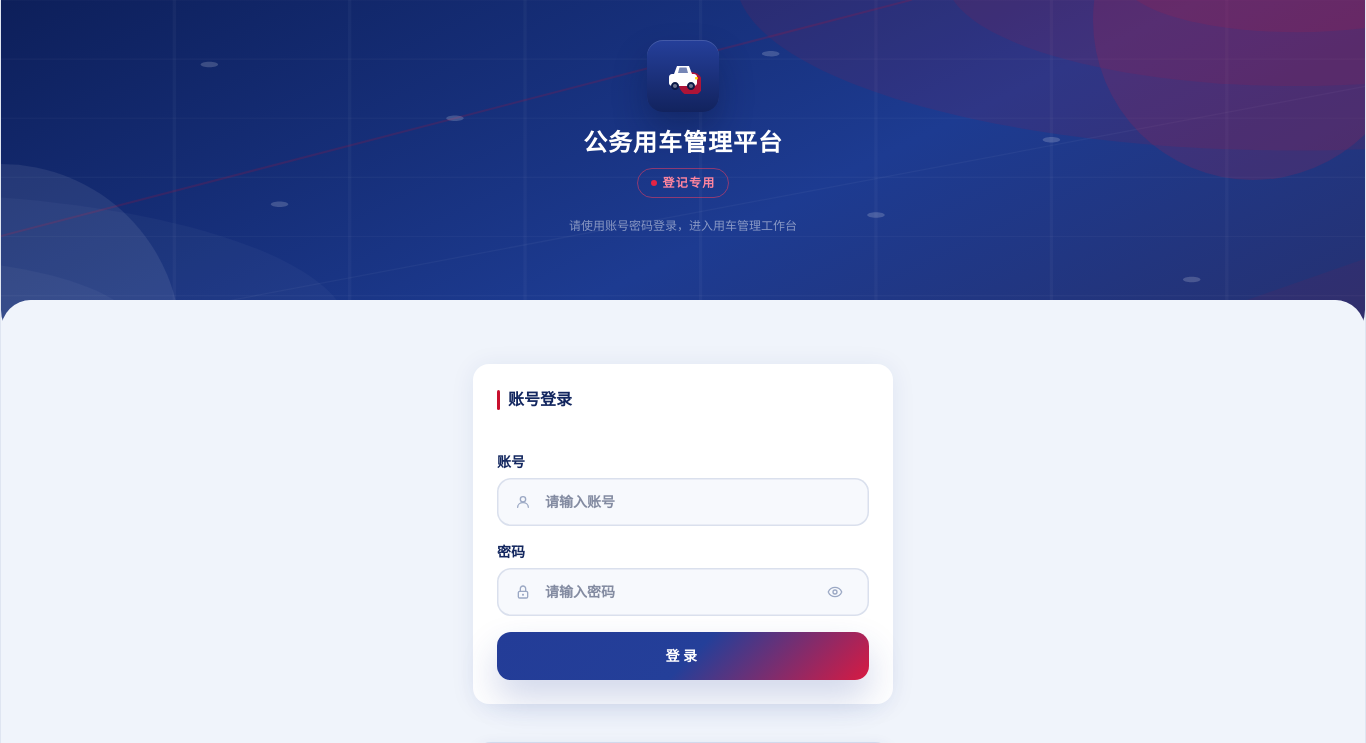
Issue 1 authentication UI › does not show the management entry after an employee logs in
Type "employee" into the field labelled "账号" at (683, 502), box [497,478,869,526]
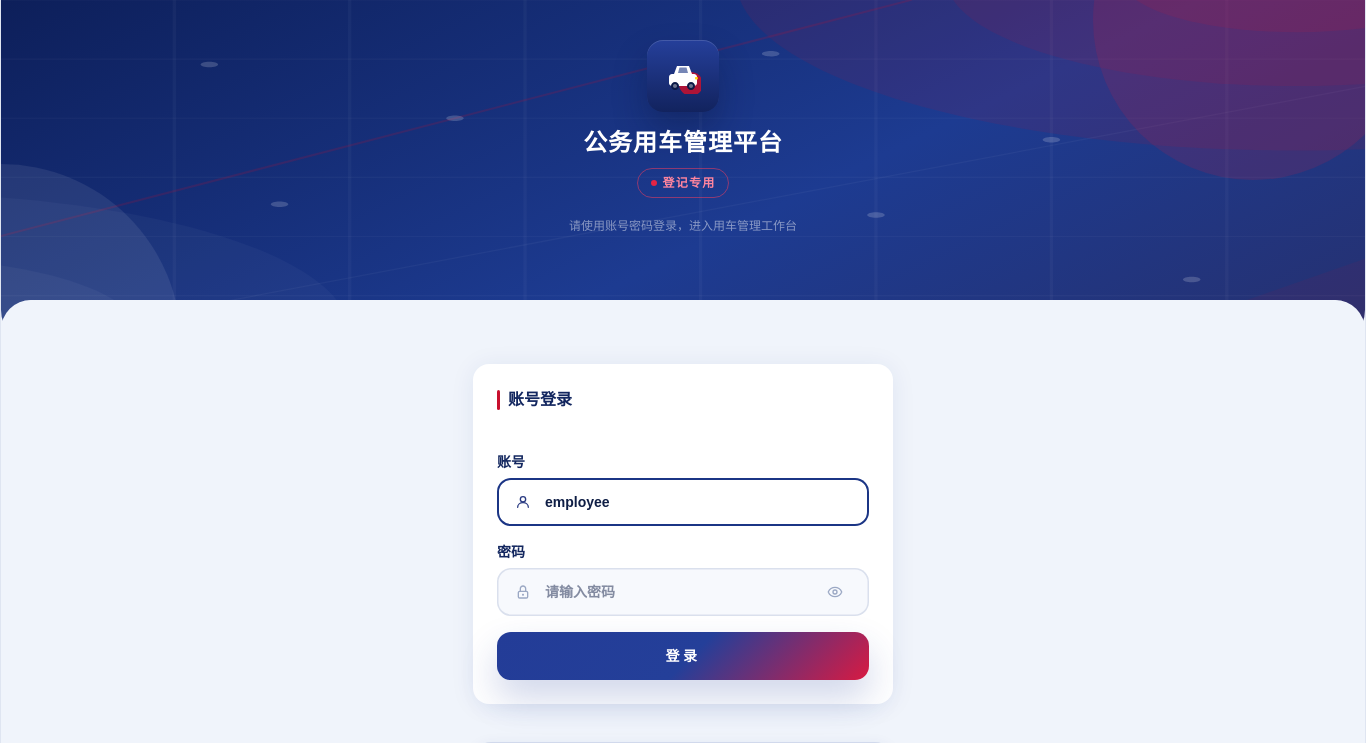
Type "Employee001" into the password field labelled "密码" at (683, 592), box [497,568,869,616]
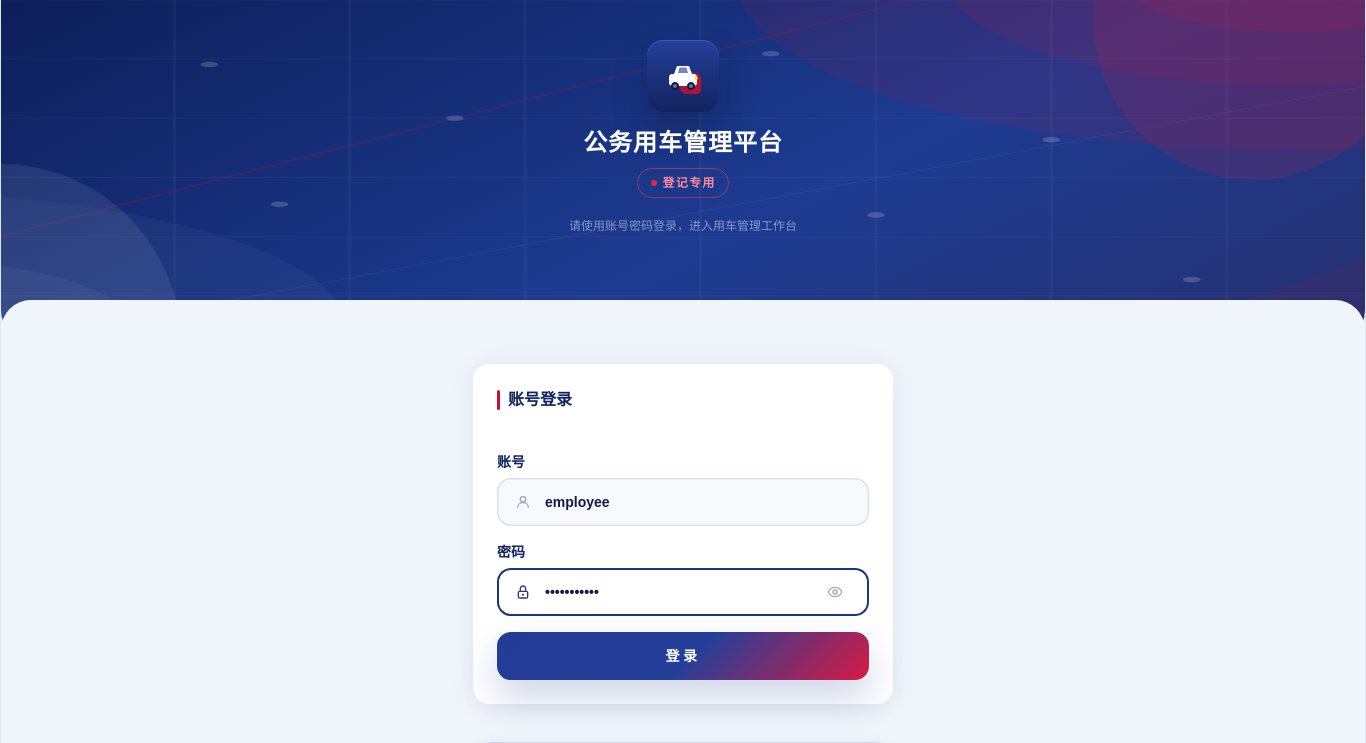
Click the button "登录" at (683, 656), box [497,632,869,680]
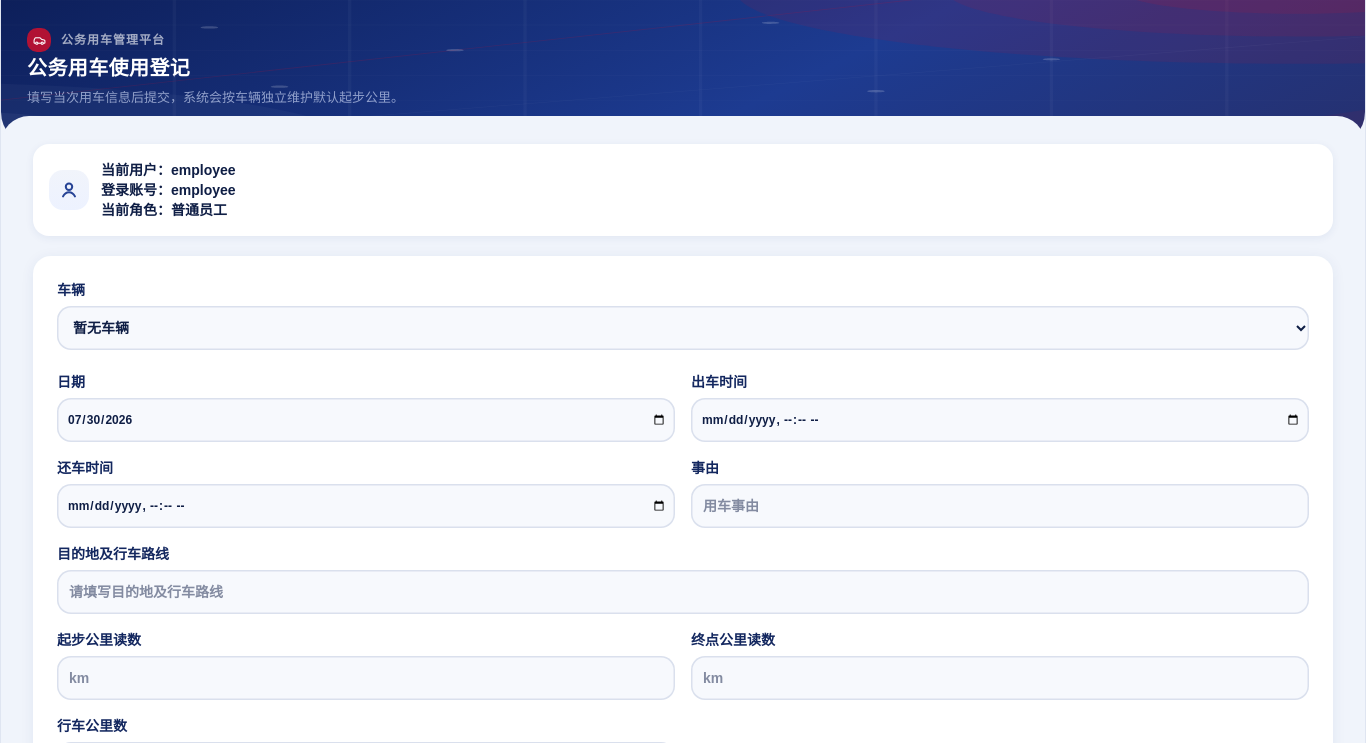
Expected: the text "当前用户：employee" is shown, [101,160,236,180]
Expected: the text "当前角色：普通员工" is shown, [101,200,236,220]
